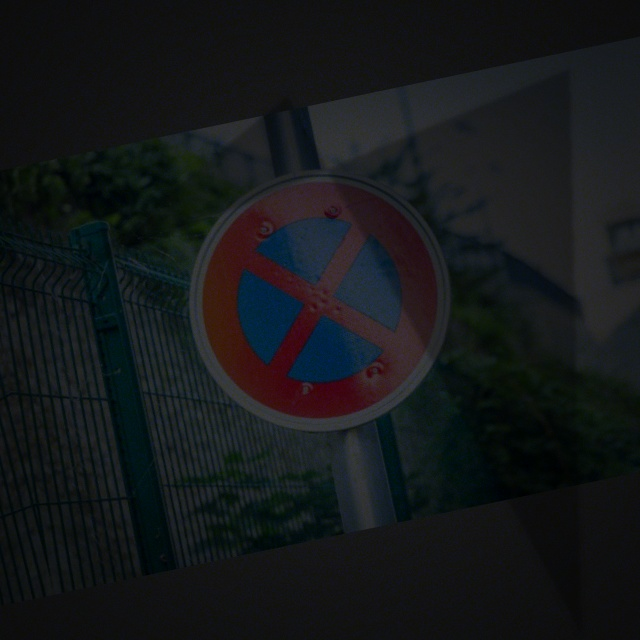No_Stopping_or_Standing: (174, 162, 473, 442)
